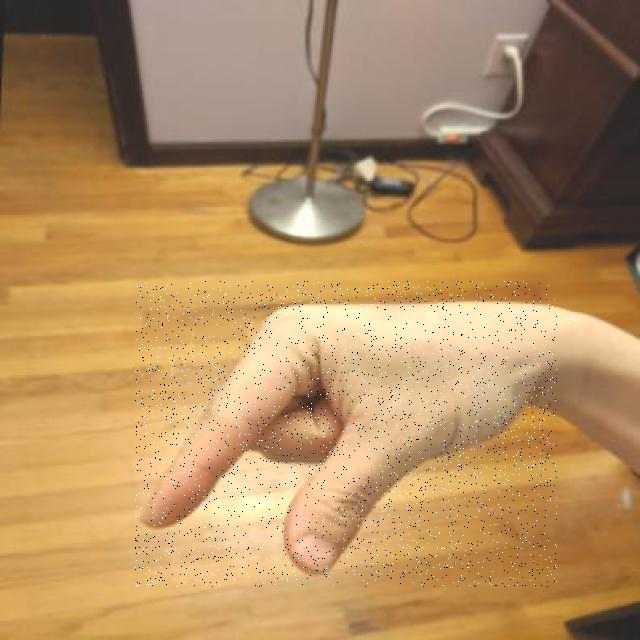Q: (135, 281, 558, 587)
